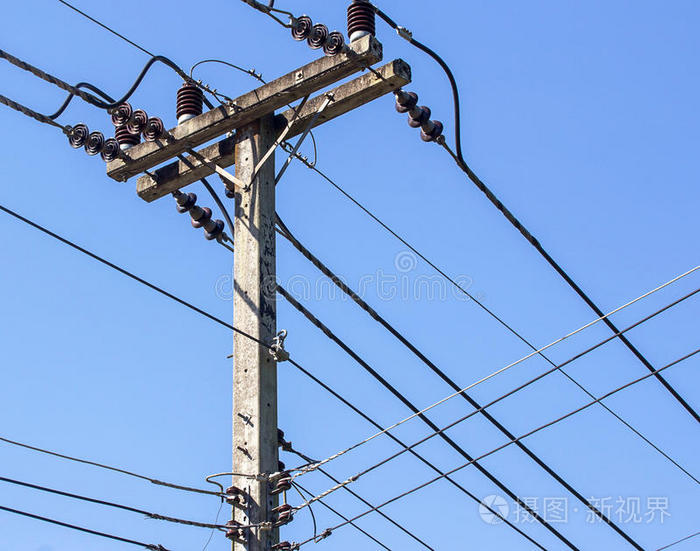insulator: (396, 92, 446, 143), (174, 192, 223, 242), (65, 121, 119, 165), (290, 13, 344, 57), (109, 101, 162, 141)
